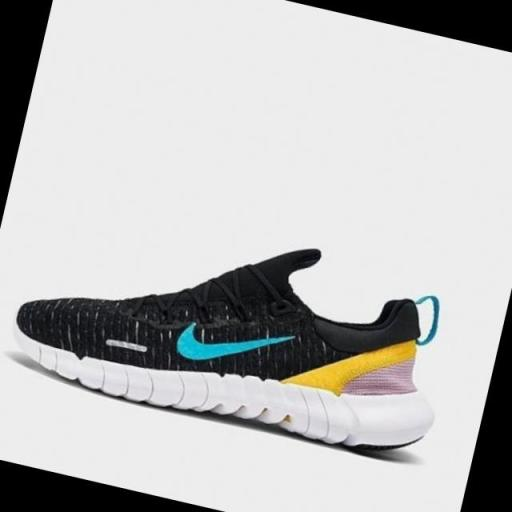Nike: (168, 304, 302, 387)
